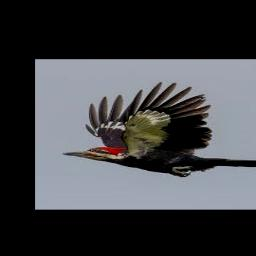Woodpecker: (61, 82, 256, 177)
